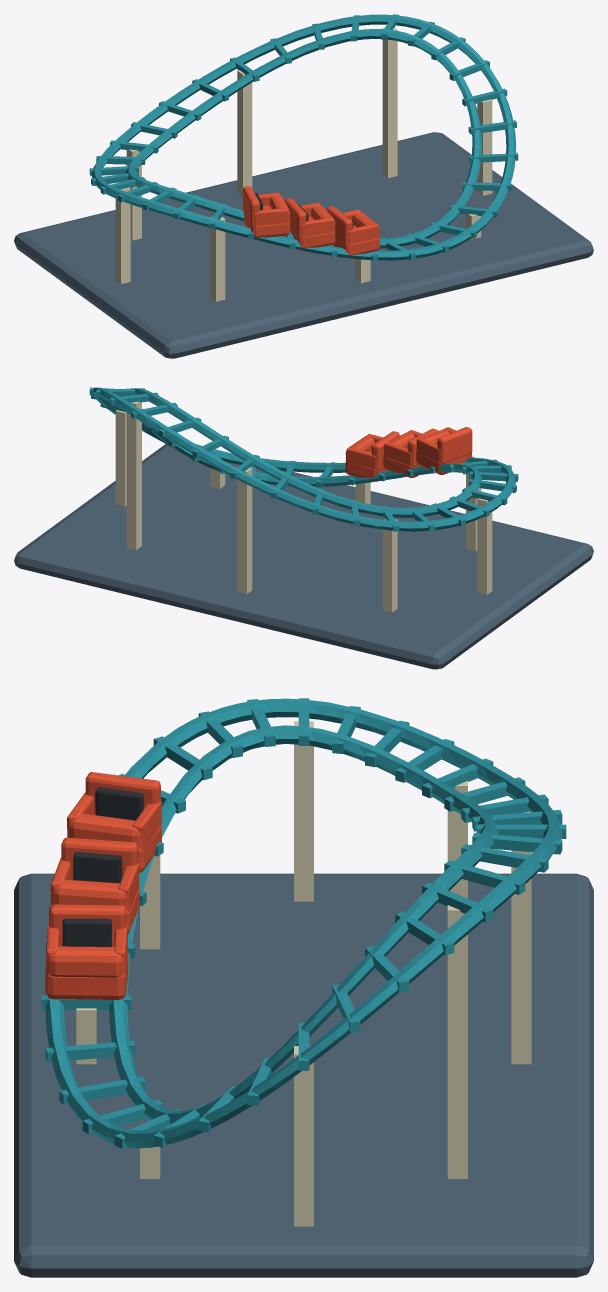
The model's file is NEW_RECOVERY_106_LOD1.fbx.
3 renders of one model, top to bottom at view 1: azimuth 30°, elevation 25°; view 2: azimuth 150°, elevation 25°; view 3: azimuth 270°, elevation 25°, orthographic. The views are drawn at different scales.
Parts seen in each view (by area): view 1: Compact_roller_coaster; view 2: Compact_roller_coaster; view 3: Compact_roller_coaster.
Part boxes in pixels (<box>): Compact_roller_coaster: <box>14,14,593,358</box>; Compact_roller_coaster: <box>14,387,593,669</box>; Compact_roller_coaster: <box>14,698,593,1277</box>.
Size of the model in its own units: 630 by 400 by 238.
